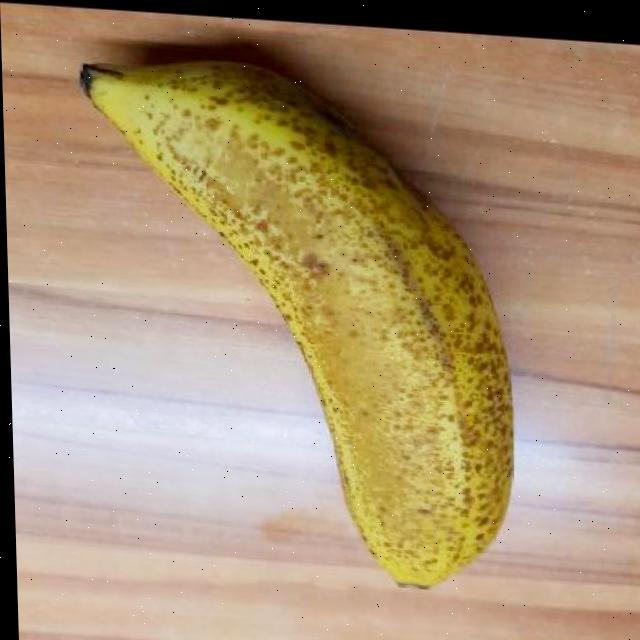banana: (77, 34, 518, 598)
